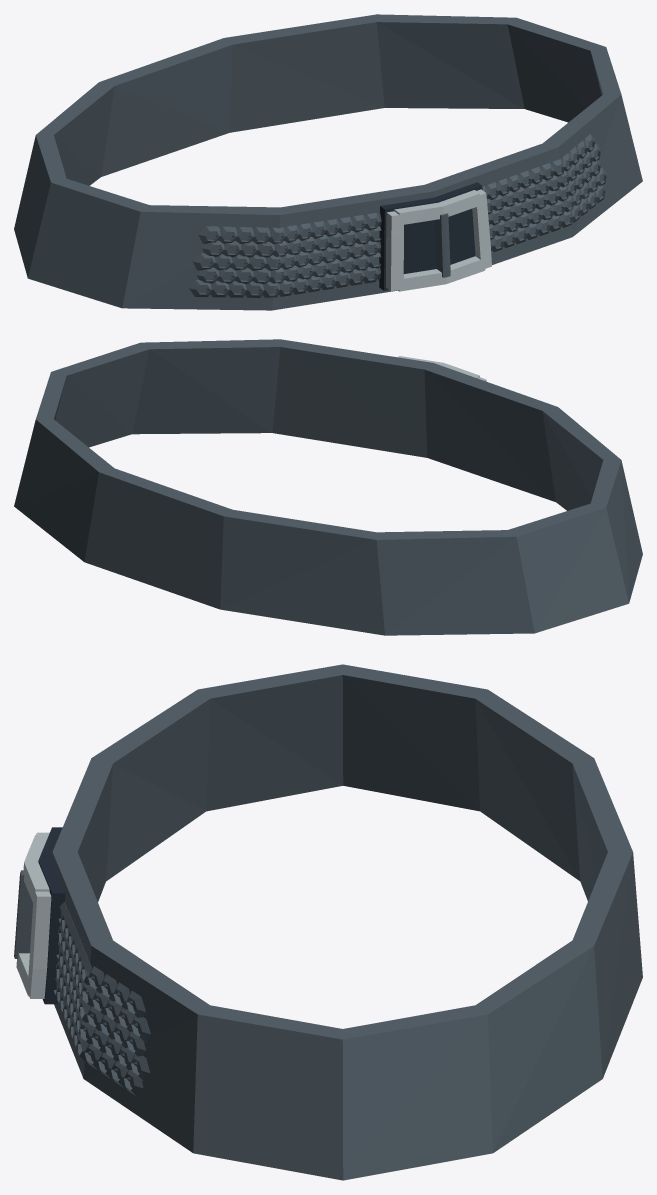
The model's file is chain_waist-female.glb.
3 views of the same model, one above another, from view 1: azimuth 30°, elevation 25°; view 2: azimuth 150°, elevation 25°; view 3: azimuth 270°, elevation 25° (orthographic). The views are drawn at different scales.
Parts seen in each view (by area): view 1: chain waist band, chain woven coverage on chain waist band, Buckle recessed backplate, Buckle cross rail 4.506, Buckle cross rail 4.294, Buckle side rail -0.145, Buckle side rail 0.145, Buckle pin; view 2: chain waist band; view 3: chain waist band, chain woven coverage on chain waist band, Buckle recessed backplate, Buckle side rail 0.145, Buckle pin, Buckle cross rail 4.506.
Part boxes in pixels (x1=…): chain waist band: x1=14, y1=14, x2=642, y2=310; chain woven coverage on chain waist band: x1=189, y1=134, x2=606, y2=297; Buckle recessed backplate: x1=379, y1=182, x2=482, y2=290; Buckle cross rail 4.506: x1=394, y1=190, x2=480, y2=225; Buckle cross rail 4.294: x1=398, y1=256, x2=485, y2=291; Buckle side rail -0.145: x1=385, y1=211, x2=403, y2=291; Buckle side rail 0.145: x1=472, y1=189, x2=491, y2=269; Buckle pin: x1=435, y1=213, x2=450, y2=277; chain waist band: x1=14, y1=339, x2=642, y2=635; chain waist band: x1=52, y1=664, x2=642, y2=1180; chain woven coverage on chain waist band: x1=54, y1=902, x2=150, y2=1096; Buckle recessed backplate: x1=38, y1=827, x2=65, y2=1004; Buckle side rail 0.145: x1=28, y1=889, x2=51, y2=998; Buckle pin: x1=14, y1=870, x2=32, y2=958; Buckle cross rail 4.506: x1=23, y1=835, x2=49, y2=902.
Size of the model in its own units: 2.01 by 0.2895 by 1.32.
